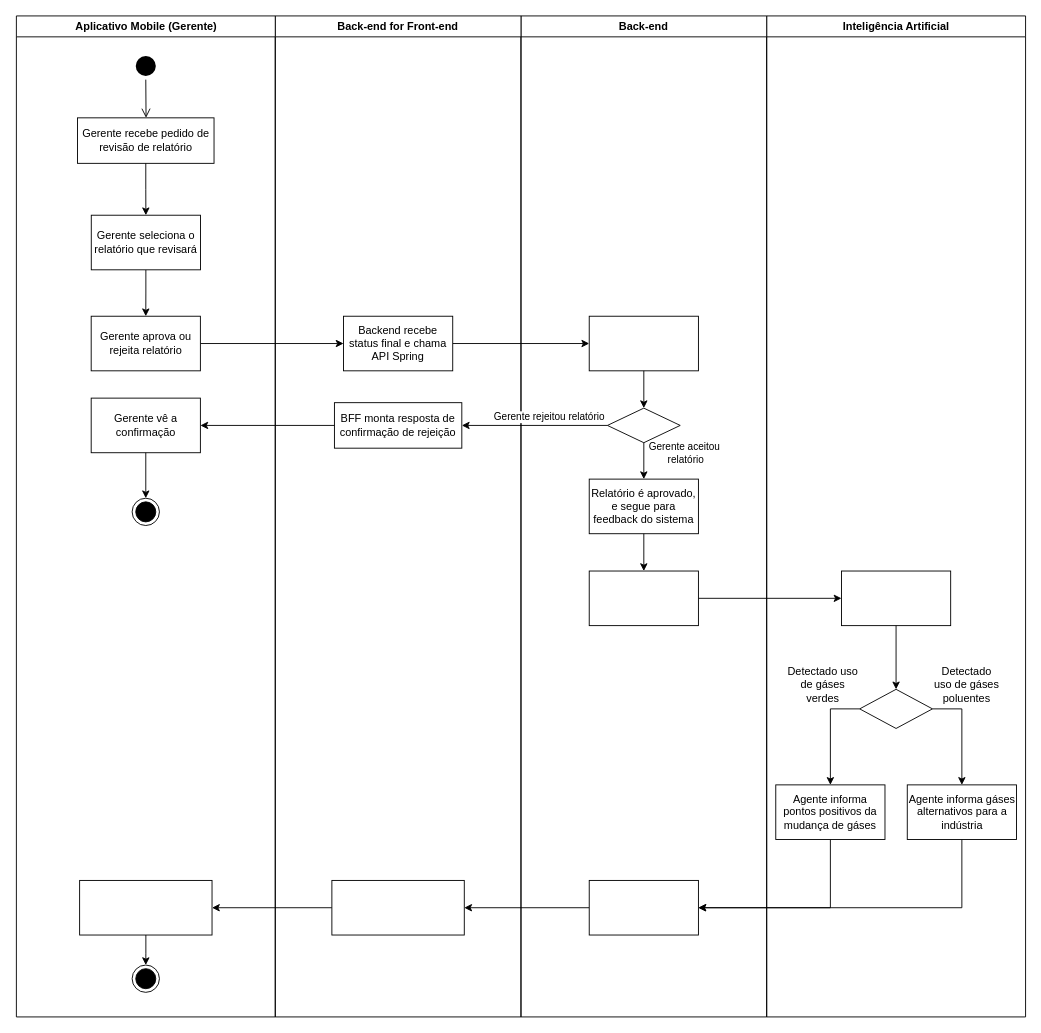
Some shapes in this 1041 by 1033 pixel diagram are drawn without their labels. Here are the shapes that lost their labels. From the top down, the centre of each, then its label:
At point (643, 343): "Atualiza status do relatório no banco de dados".
At point (643, 598): "Chama API para a Inteligência Artificial".
At point (896, 598): "IA recebe relatório".
At point (145, 907): "Mobile consome retorno do BFF e mostra relatório de feedback ao funcionário".
At point (397, 907): "BFF prepara o retorno para o consumo do frontend".
At point (643, 907): "Sistema retorna chamda do BFF".
